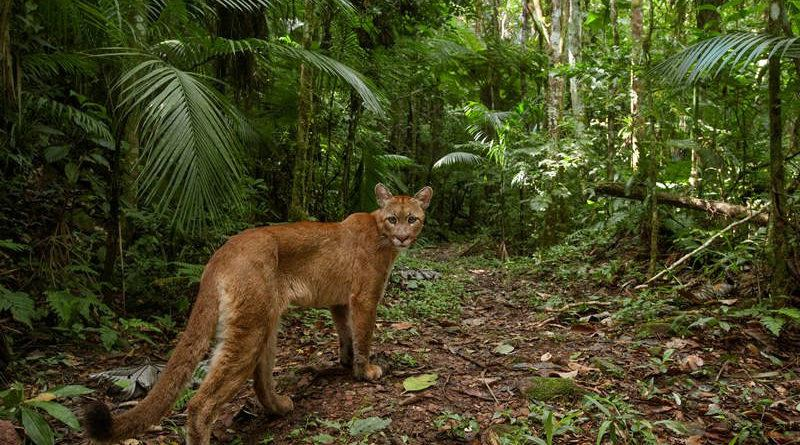OncaParda: (80, 181, 435, 438)
